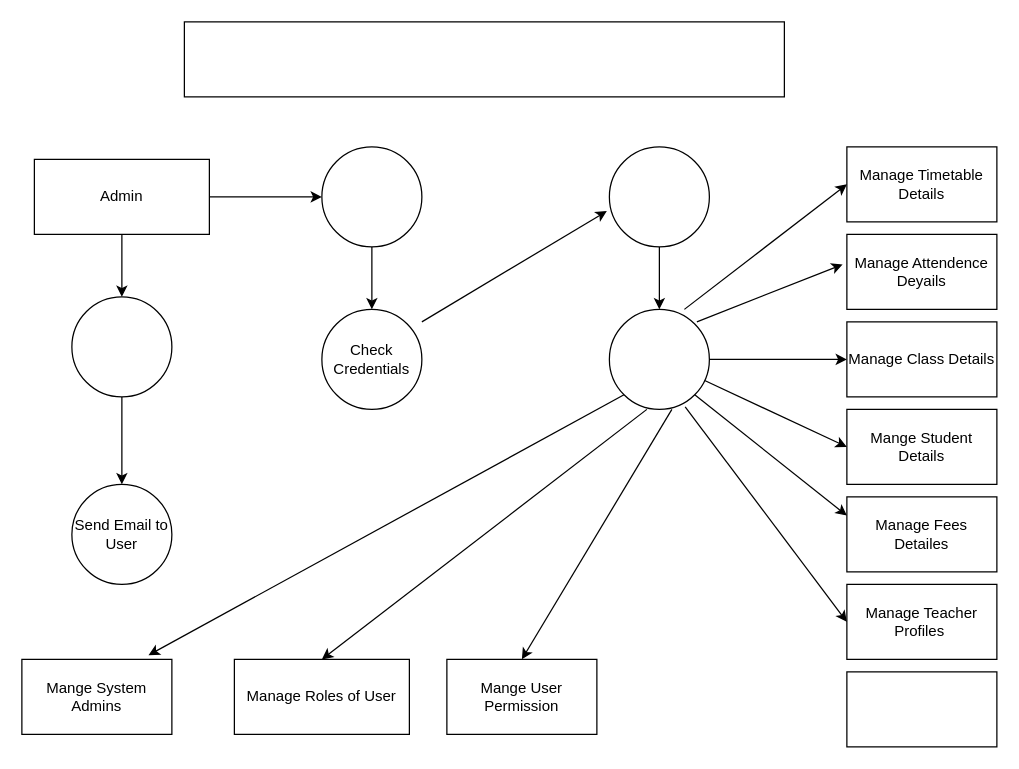
This 1019x769 diagram has some shape labels left out. Here are the shapes that lost their labels. From the top down, the centre of each, then its label:
At (483,59): "STUDENT INFORMATION SYSTEM".
At (371,196): "Login to System".
At (658,196): "Check Roles of Access".
At (121,346): "Forgot password".
At (658,358): "Mange Modules".
At (921,709): "Manage Report".
